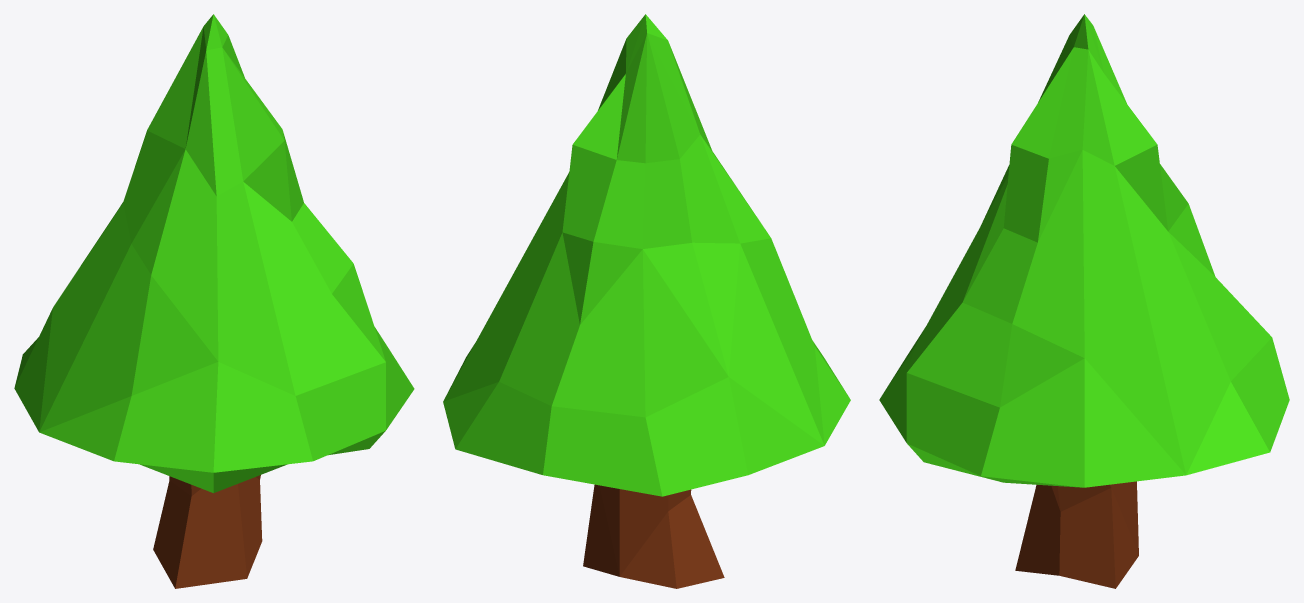
Rendered from Tree1.fbx.
3 views of the same model, side by side, from view 1: azimuth 30°, elevation 25°; view 2: azimuth 150°, elevation 25°; view 3: azimuth 270°, elevation 25° (orthographic). The views are drawn at different scales.
Parts seen in each view (by area): view 1: Tree1; view 2: Tree1; view 3: Tree1.
Part boxes in pixels (<box>): Tree1: <box>14,14,414,588</box>; Tree1: <box>443,14,850,588</box>; Tree1: <box>879,14,1289,588</box>.
Size of the model in its own units: 182 by 274 by 181.
